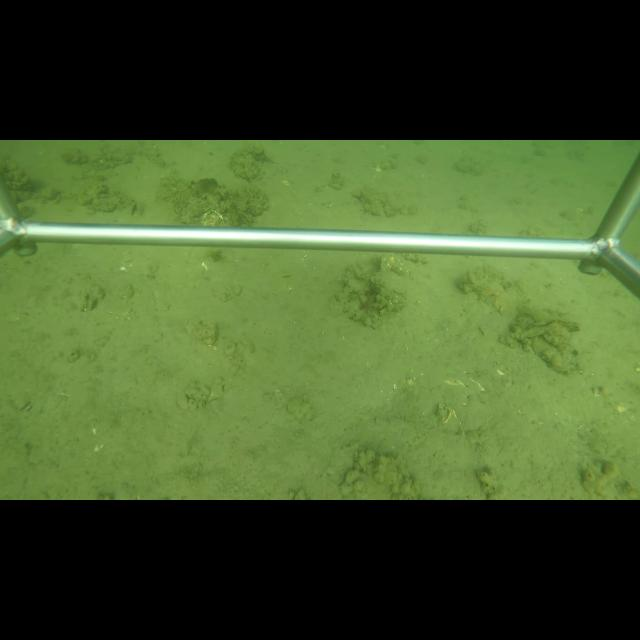Oyster-Closed: (514, 317, 581, 338), (368, 268, 408, 298)
